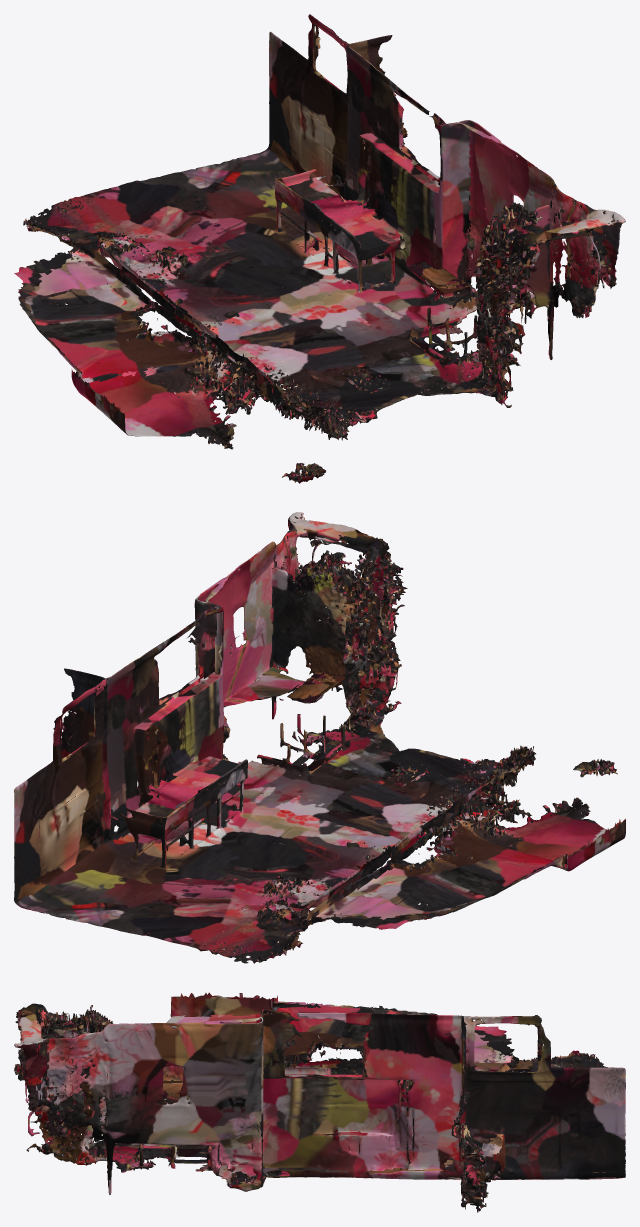
Rendered from Hallway (Fixed).fbx.
3 renders of one model, top to bottom at view 1: azimuth 30°, elevation 25°; view 2: azimuth 150°, elevation 25°; view 3: azimuth 270°, elevation 25°, orthographic. The views are drawn at different scales.
Visible parts, largest first — view 1: Mesh1; view 2: Mesh1; view 3: Mesh1.
Part boxes in pixels (x1,y1,x2,y2): Mesh1: (14,14,625,483); Mesh1: (14,512,625,963); Mesh1: (14,992,625,1212).
Bounding box in the file's own units: 157 × 67.58 × 200.
